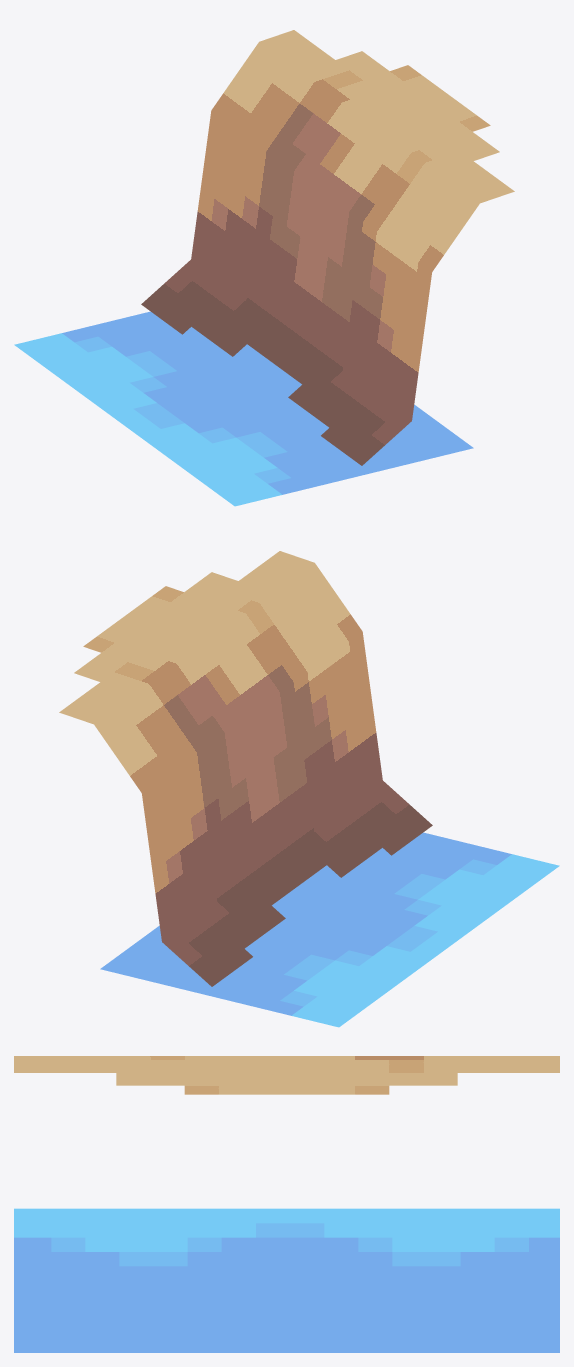
3 renders of one model, top to bottom at view 1: azimuth 30°, elevation 25°; view 2: azimuth 150°, elevation 25°; view 3: azimuth 270°, elevation 25°, orthographic. The views are drawn at different scales.
Size of the model in its own units: 0.8496 by 0.627 by 1.
Materials: 2 (2 with a texture image).
